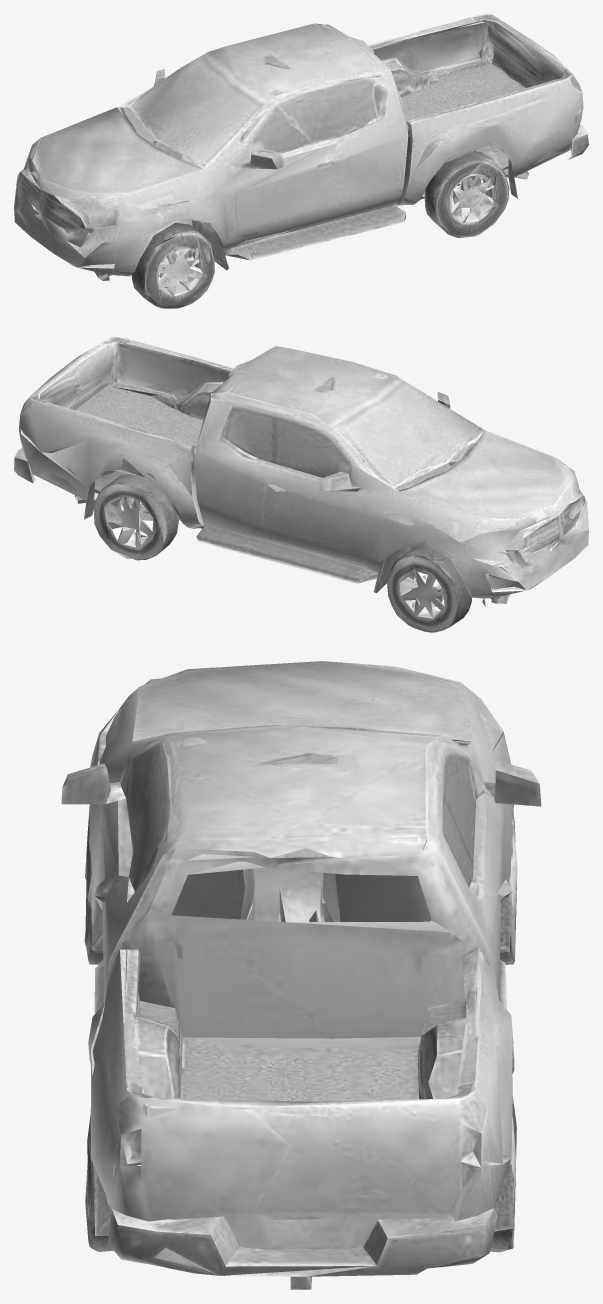
Rendered from car_pickup.glb.
The picture shows the model from 3 angles, top to bottom: view 1: azimuth 30°, elevation 25°; view 2: azimuth 150°, elevation 25°; view 3: azimuth 270°, elevation 25°; orthographic projection. The views are drawn at different scales.
Size of the model in its own units: 1.9 by 0.6247 by 0.7735.
1 material, 1 textured.
